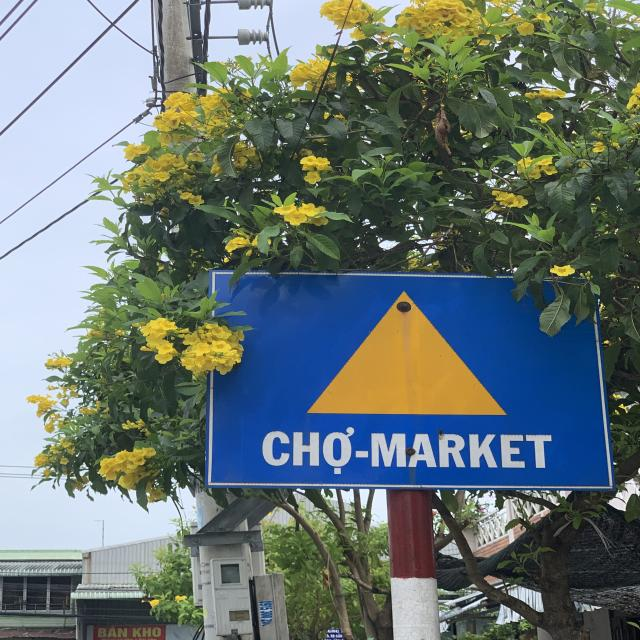Cho_Quay_Xe: (216, 269, 611, 491)
